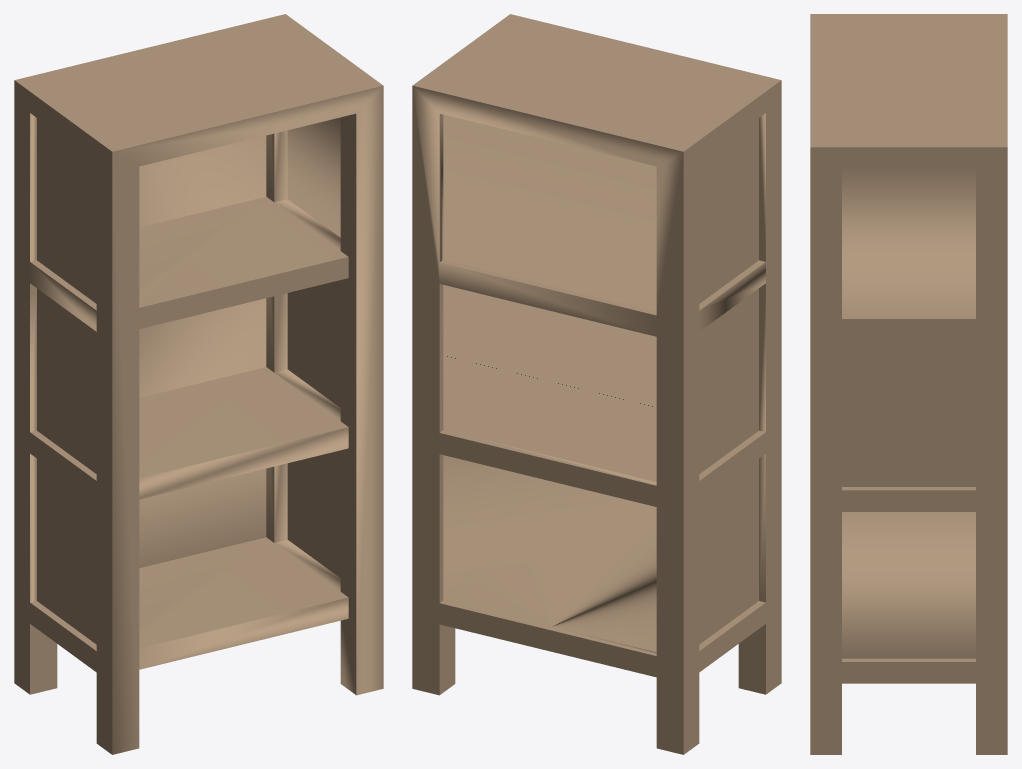
File: bookcaseClosed.glb
The picture shows the model from 3 angles, left to right: view 1: azimuth 30°, elevation 25°; view 2: azimuth 150°, elevation 25°; view 3: azimuth 270°, elevation 25°; orthographic projection.
Visible parts, largest first — view 1: bookcaseClosed(Clone); view 2: bookcaseClosed(Clone); view 3: bookcaseClosed(Clone).
Boxes of the visible parts, <box> form: bookcaseClosed(Clone): <box>14,14,383,754</box>; bookcaseClosed(Clone): <box>412,14,781,754</box>; bookcaseClosed(Clone): <box>810,14,1007,754</box>.
Bounding box in the file's own units: 0.4 × 0.85 × 0.25.
